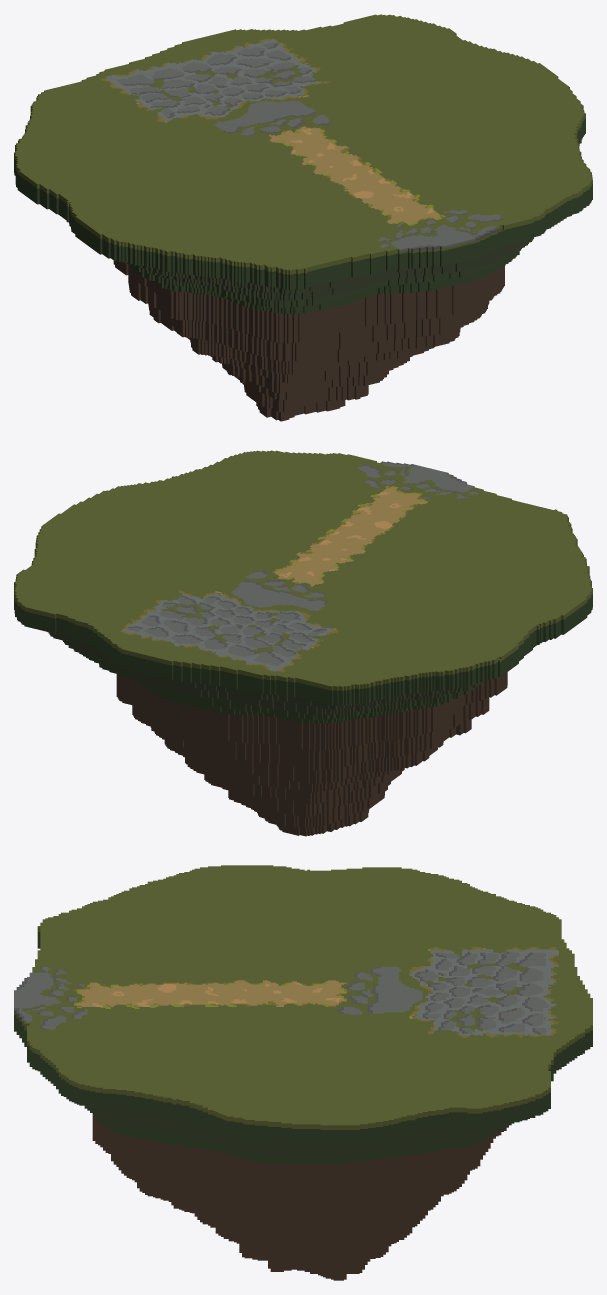
The model's file is central ground2.FBX.
3 views of the same model, one above another, from view 1: azimuth 30°, elevation 25°; view 2: azimuth 150°, elevation 25°; view 3: azimuth 270°, elevation 25° (orthographic). The views are drawn at different scales.
Parts seen in each view (by area): view 1: central ground2; view 2: central ground2; view 3: central ground2.
Boxes of the visible parts, box(x1,y1,x2,y2) form: central ground2: box(14, 14, 592, 421); central ground2: box(14, 450, 592, 836); central ground2: box(14, 865, 592, 1280).
Size of the model in its own units: 23.5 by 11.3 by 22.1.
1 material, 1 textured.
